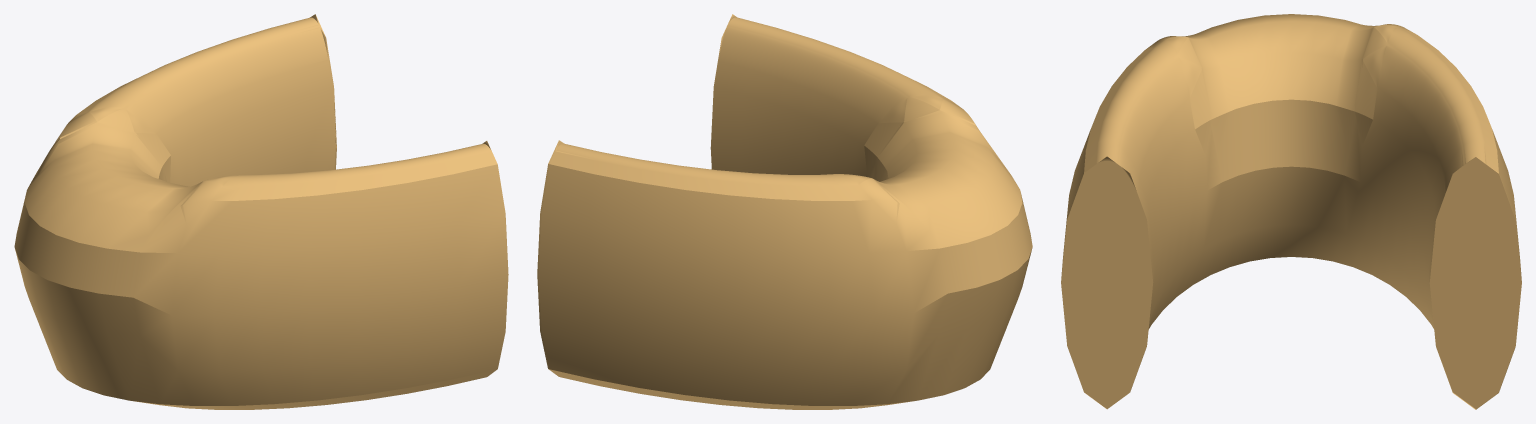
Rendered from boyunluk (1).fbx.
3 renders of one model, left to right at view 1: azimuth 30°, elevation 25°; view 2: azimuth 150°, elevation 25°; view 3: azimuth 270°, elevation 25°, orthographic. The views are drawn at different scales.
Parts seen in each view (by area): view 1: Torus; view 2: Torus; view 3: Torus.
Boxes of the visible parts, x1,y1,x2,y2 form: Torus: (14, 14, 508, 409); Torus: (537, 14, 1032, 409); Torus: (1061, 14, 1521, 409).
Size of the model in its own units: 3031 by 1842 by 3042.
